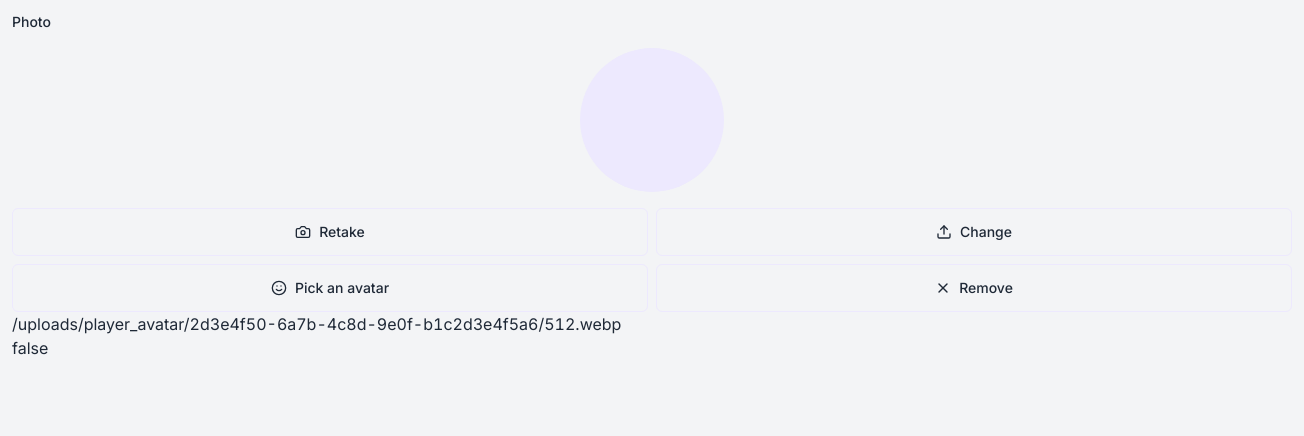
Test case: PlayerPhotoField › removes the picture by sending null, focus staying on what picks a new one
Step 1. Click the button "Remove" → (974, 288), box [656,264,1292,312]
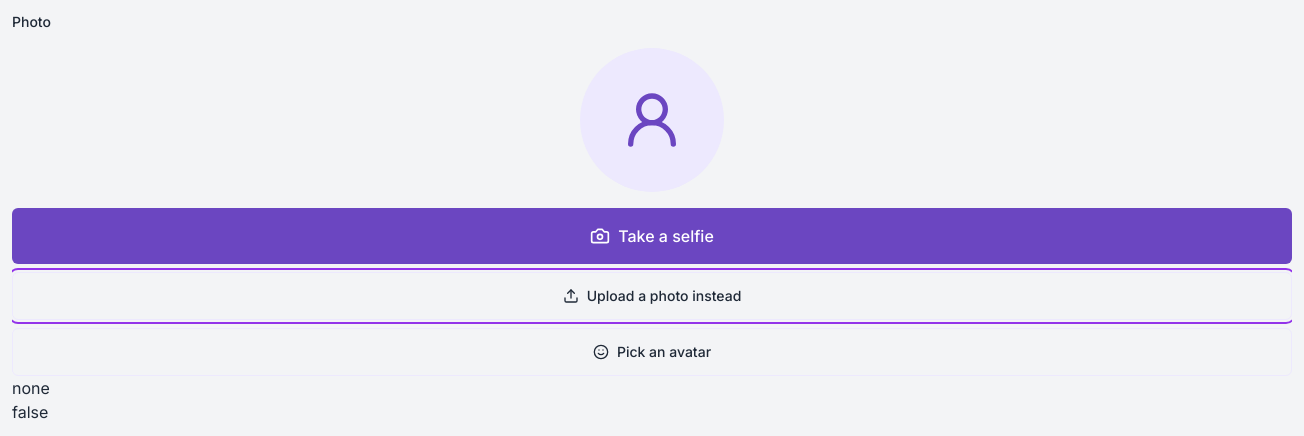
Expected: the text with test id "value" reads "none", [12,378,50,398]
Expected: the button "Remove" is gone
